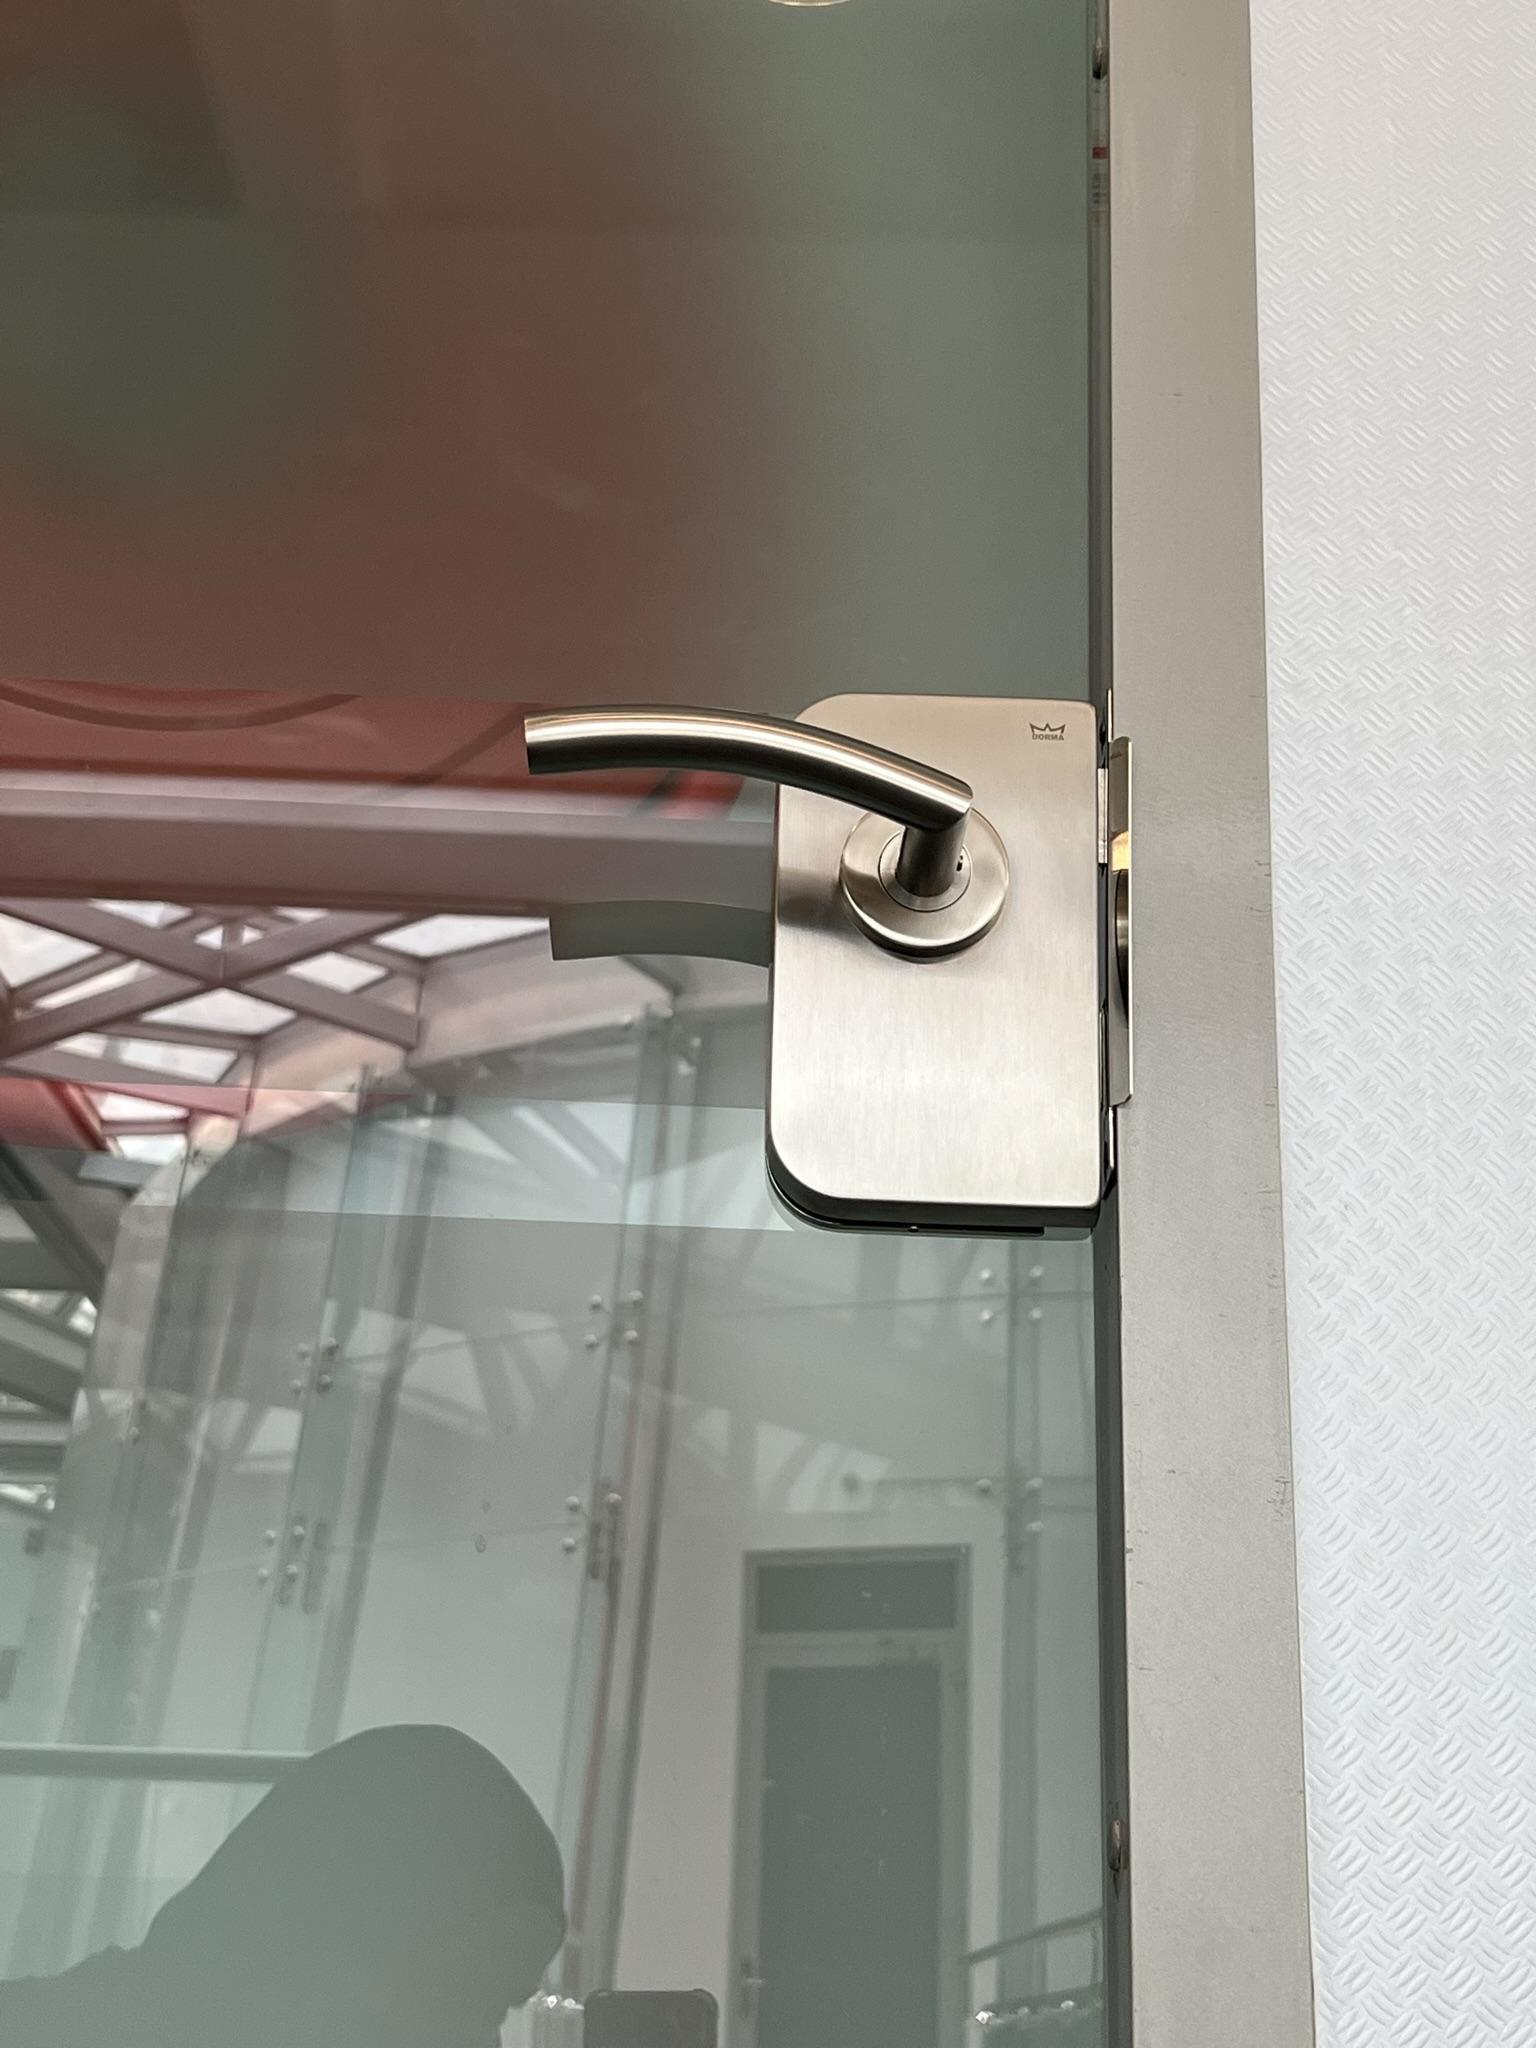door: (23, 6, 1300, 2019)
handle: (516, 656, 1125, 1234)
